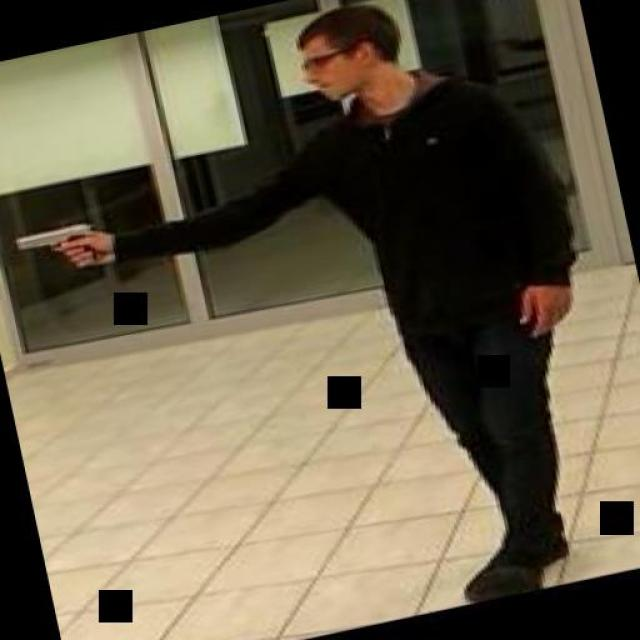gun: (8, 215, 108, 283)
